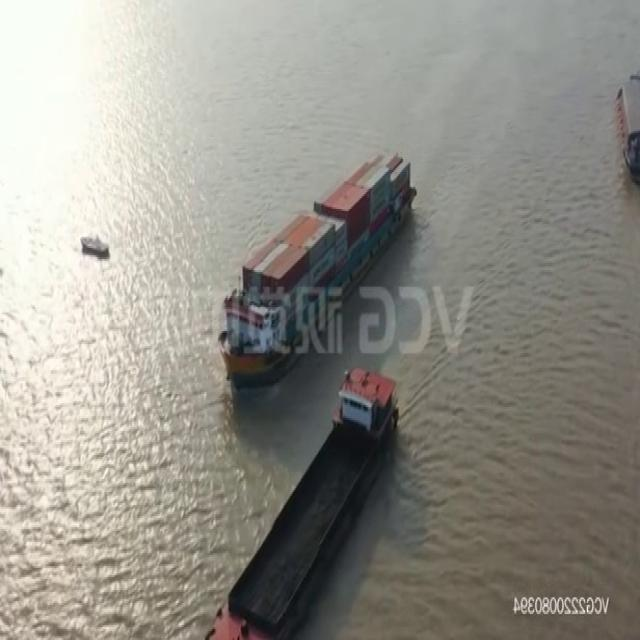cargoship: (219, 327, 406, 640), (213, 98, 427, 332)
